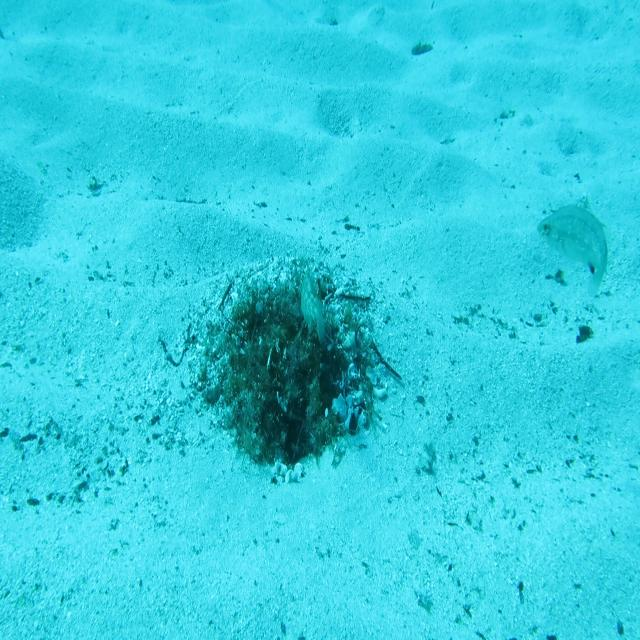NIP_CORE: (298, 266, 327, 347)
core_nest: (260, 304, 310, 336)
female: (533, 196, 612, 307)
nest: (174, 250, 395, 496)
vegetation: (575, 321, 594, 350)
